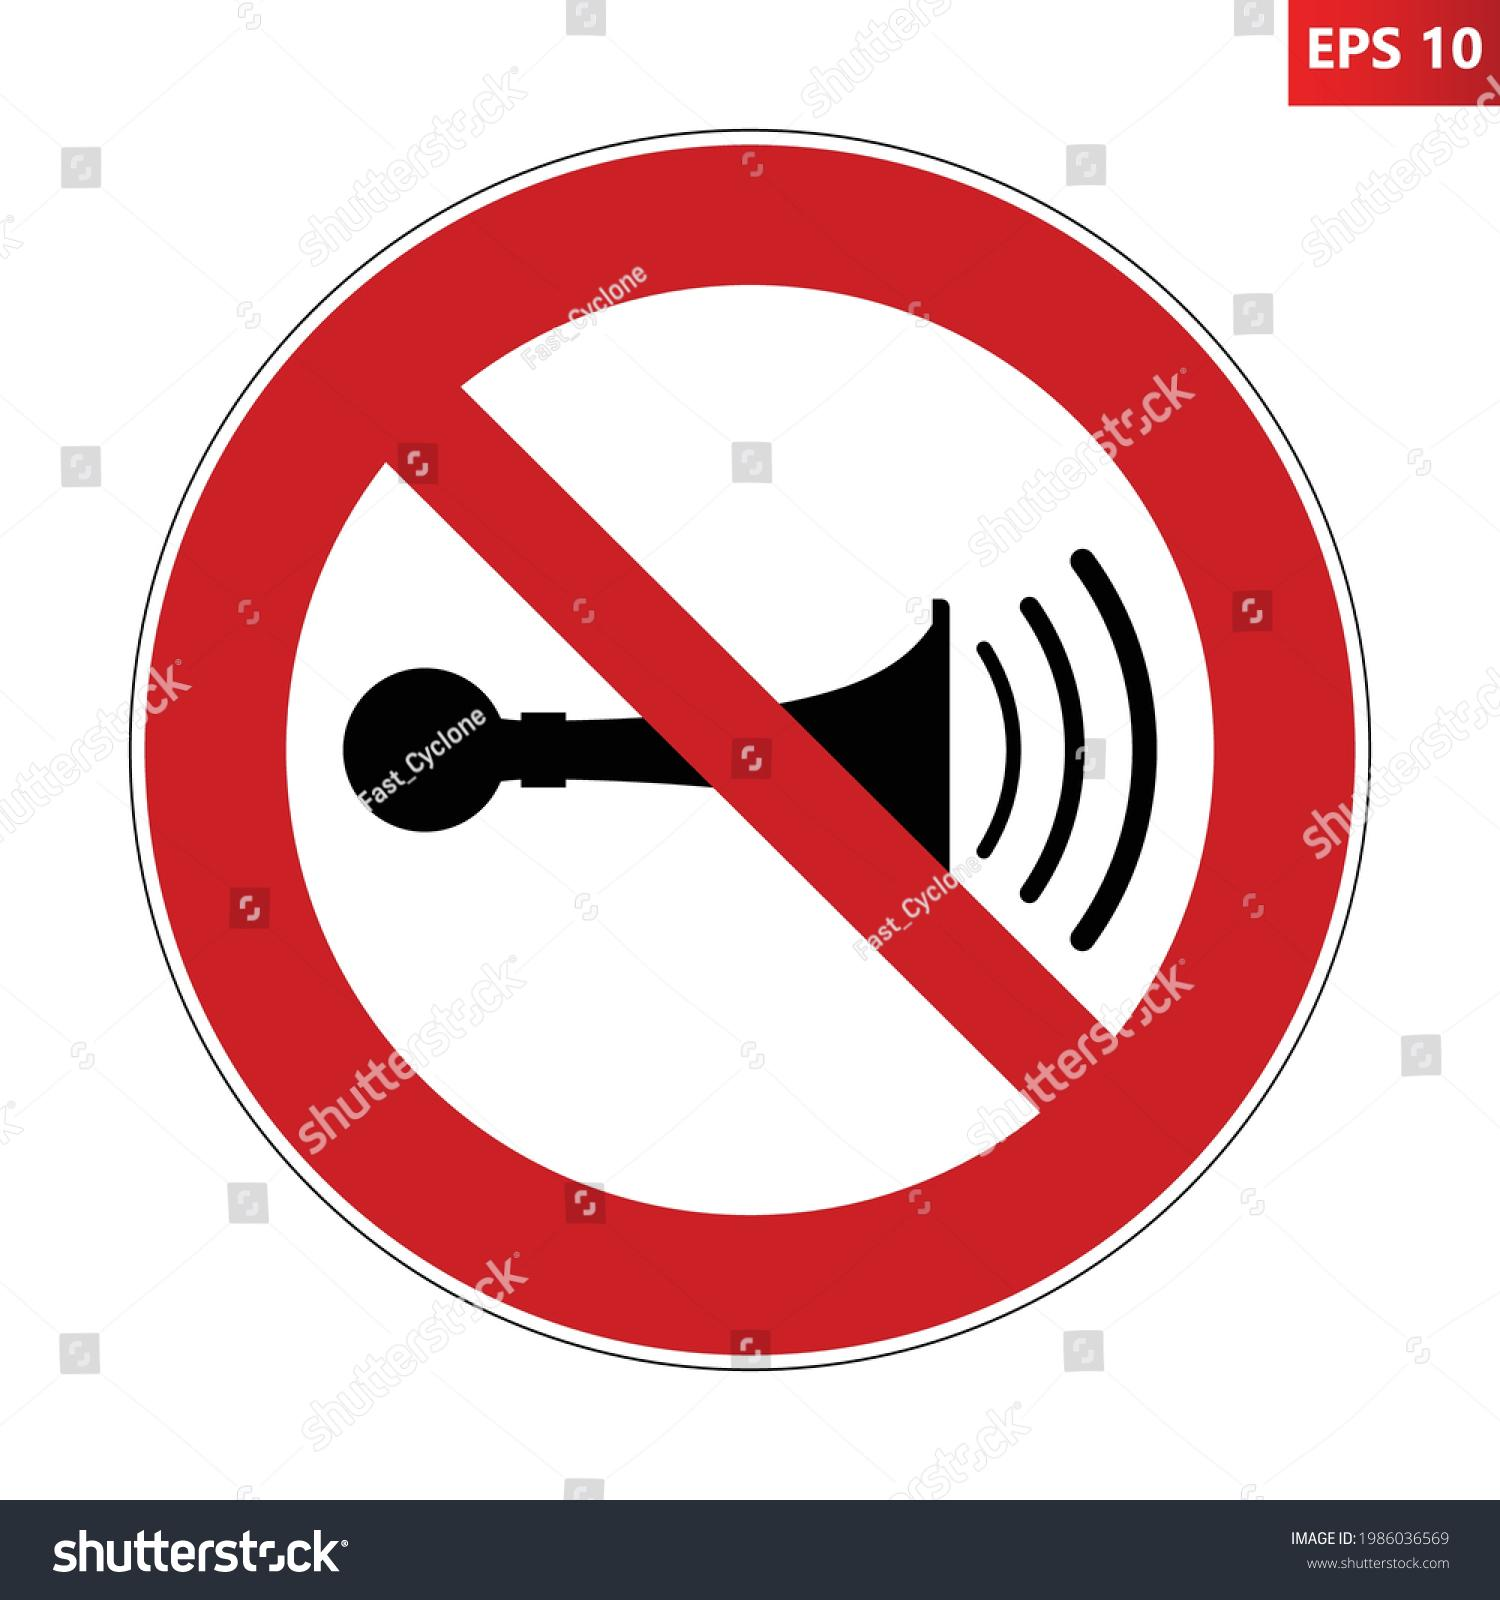Horn Prohibited: (185, 97, 1296, 1327)
